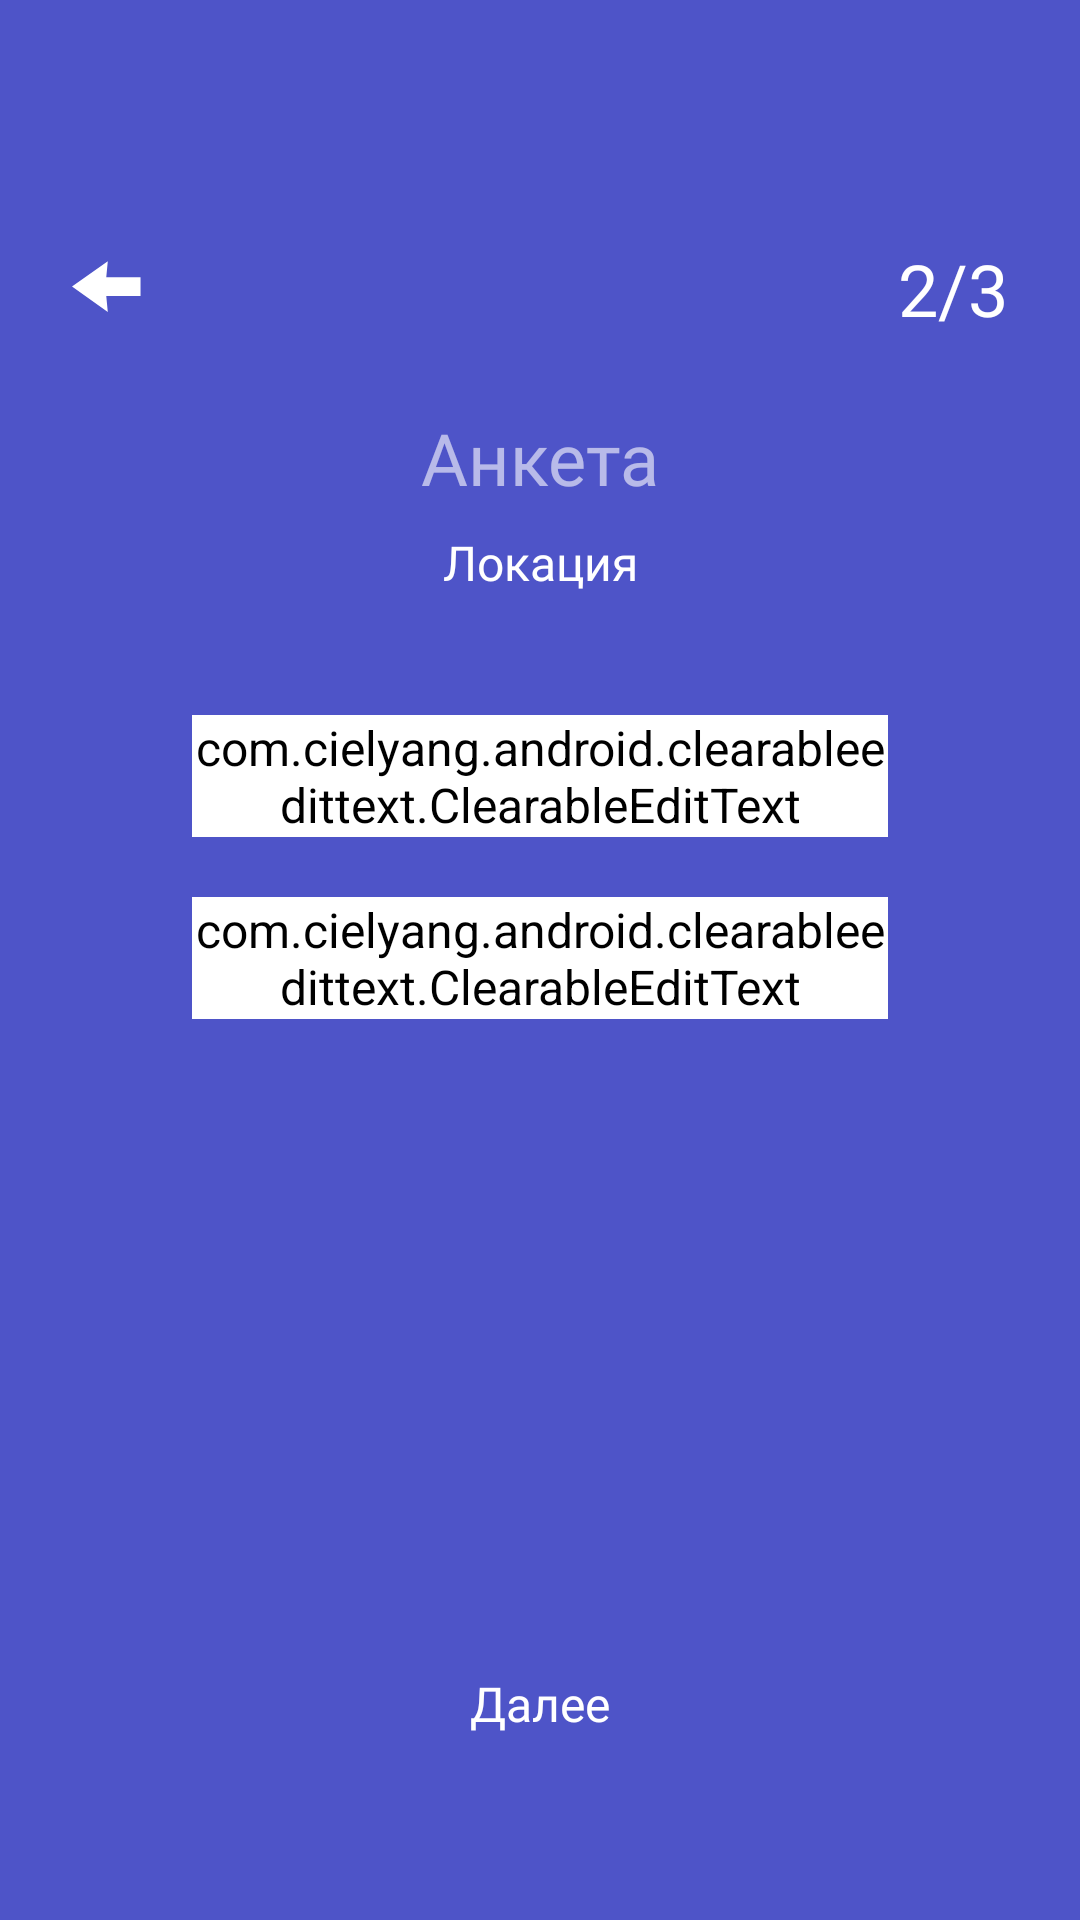

Locate icon controls on the screen. Image size 1080px×1920px, boxes as (x1,y1,x2,y2).
arrow: (72,261,141,312)
